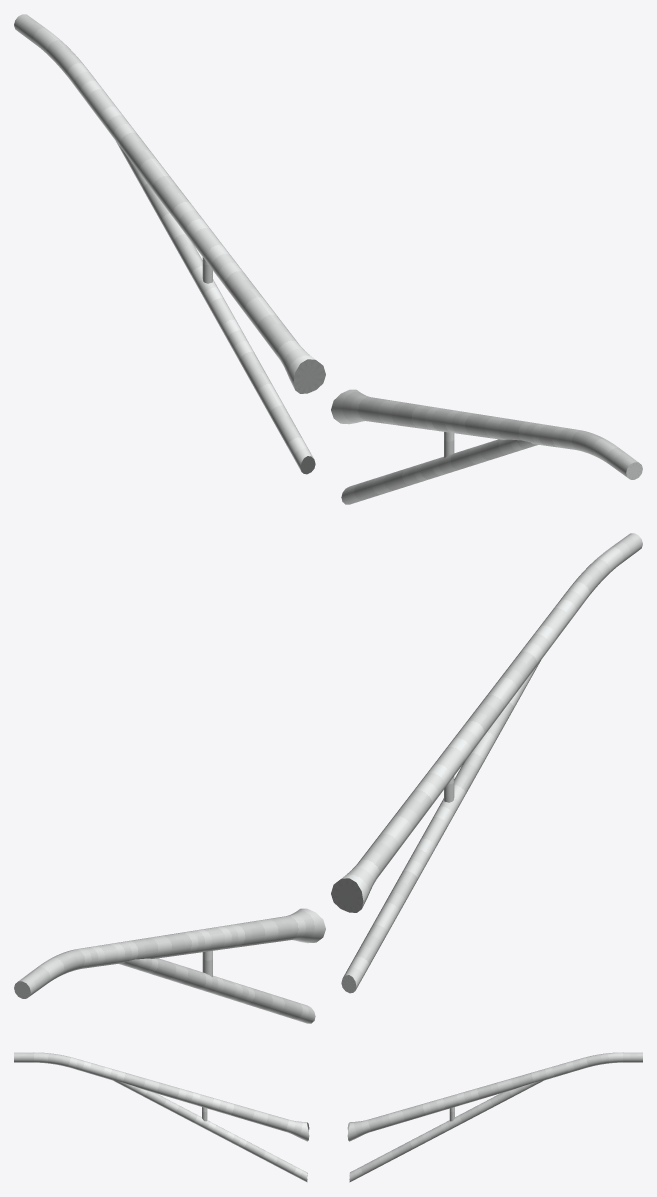
The model's file is luminairearm_truss12ftstraightdouble_inv.obj.
The picture shows the model from 3 angles, top to bottom: view 1: azimuth 30°, elevation 25°; view 2: azimuth 150°, elevation 25°; view 3: azimuth 270°, elevation 25°; orthographic projection. The views are drawn at different scales.
Visible parts, largest first — view 1: luminairearm_truss12ftstraightdouble_inv; view 2: luminairearm_truss12ftstraightdouble_inv; view 3: luminairearm_truss12ftstraightdouble_inv.
Boxes of the visible parts, box(x1,y1,x2,y2) form: luminairearm_truss12ftstraightdouble_inv: box(14, 14, 642, 504); luminairearm_truss12ftstraightdouble_inv: box(14, 533, 642, 1023); luminairearm_truss12ftstraightdouble_inv: box(14, 1052, 642, 1182).
Bounding box in the file's own units: 0.0307 × 0.2266 × 1.
